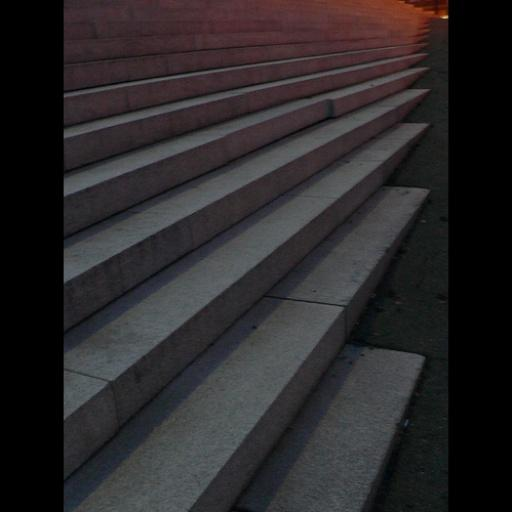stairs: (64, 0, 427, 511)
